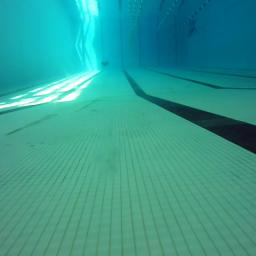Full: (101, 60, 109, 66)
